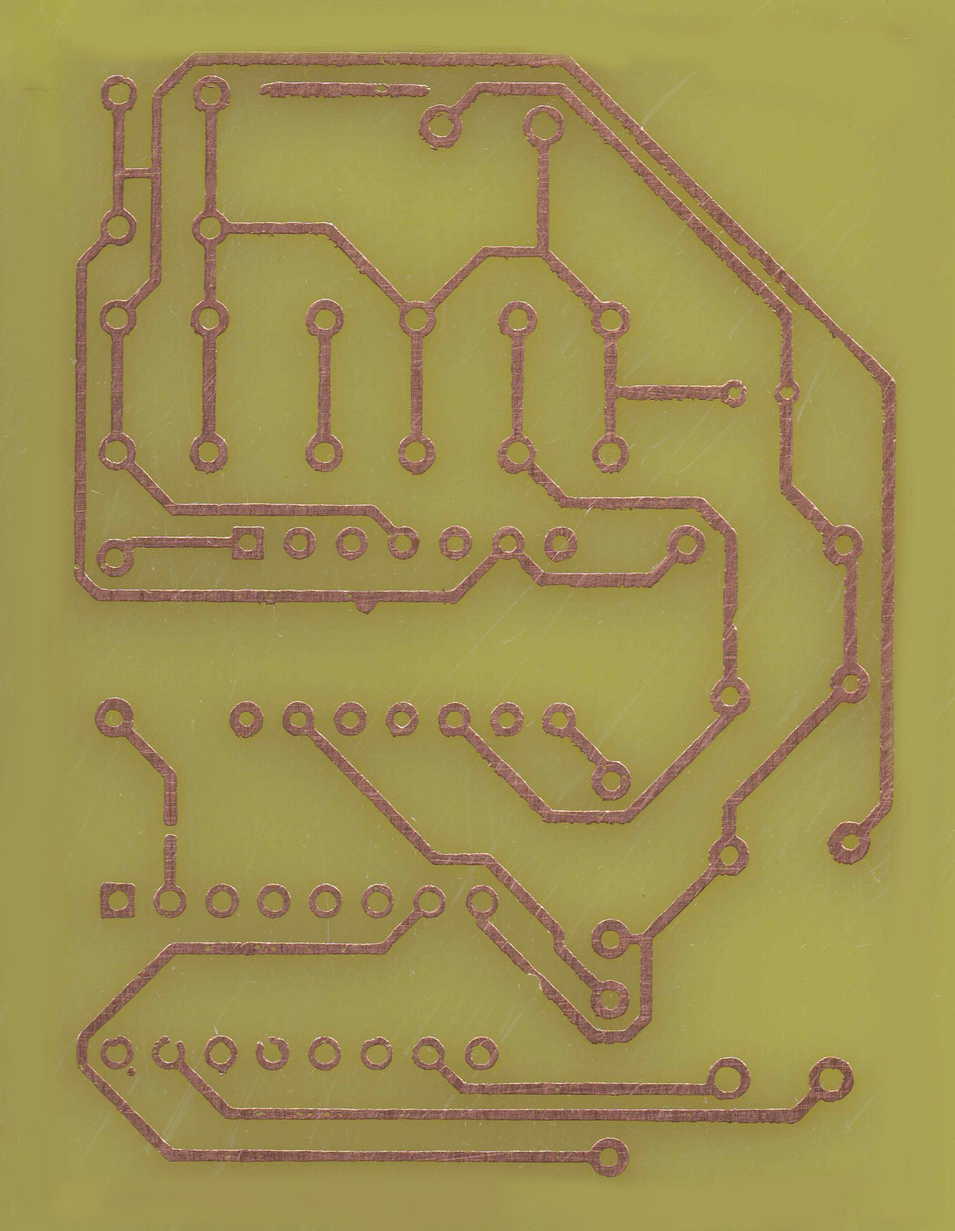missing_hole: (149, 1032, 190, 1071), (255, 1032, 295, 1070)
mouse_bite: (520, 959, 550, 993)
open_circuit: (160, 812, 184, 847)
short: (104, 155, 163, 186)
spur: (341, 584, 380, 616)
spurious_copper: (248, 73, 435, 105)
